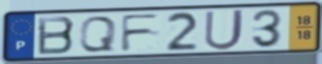2: (165, 10, 201, 53)
3: (249, 8, 284, 49)
B: (36, 15, 78, 57)
F: (119, 12, 163, 54)
Q: (77, 15, 119, 54)
U: (202, 8, 247, 52)
